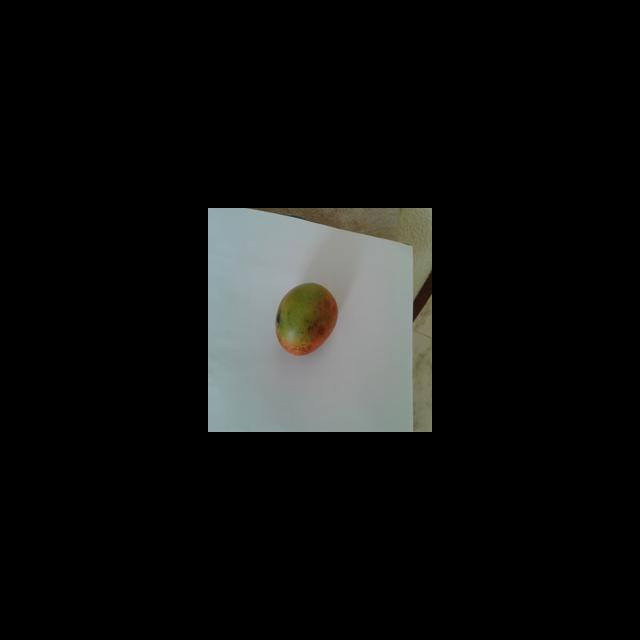Mango: (274, 281, 338, 356)
